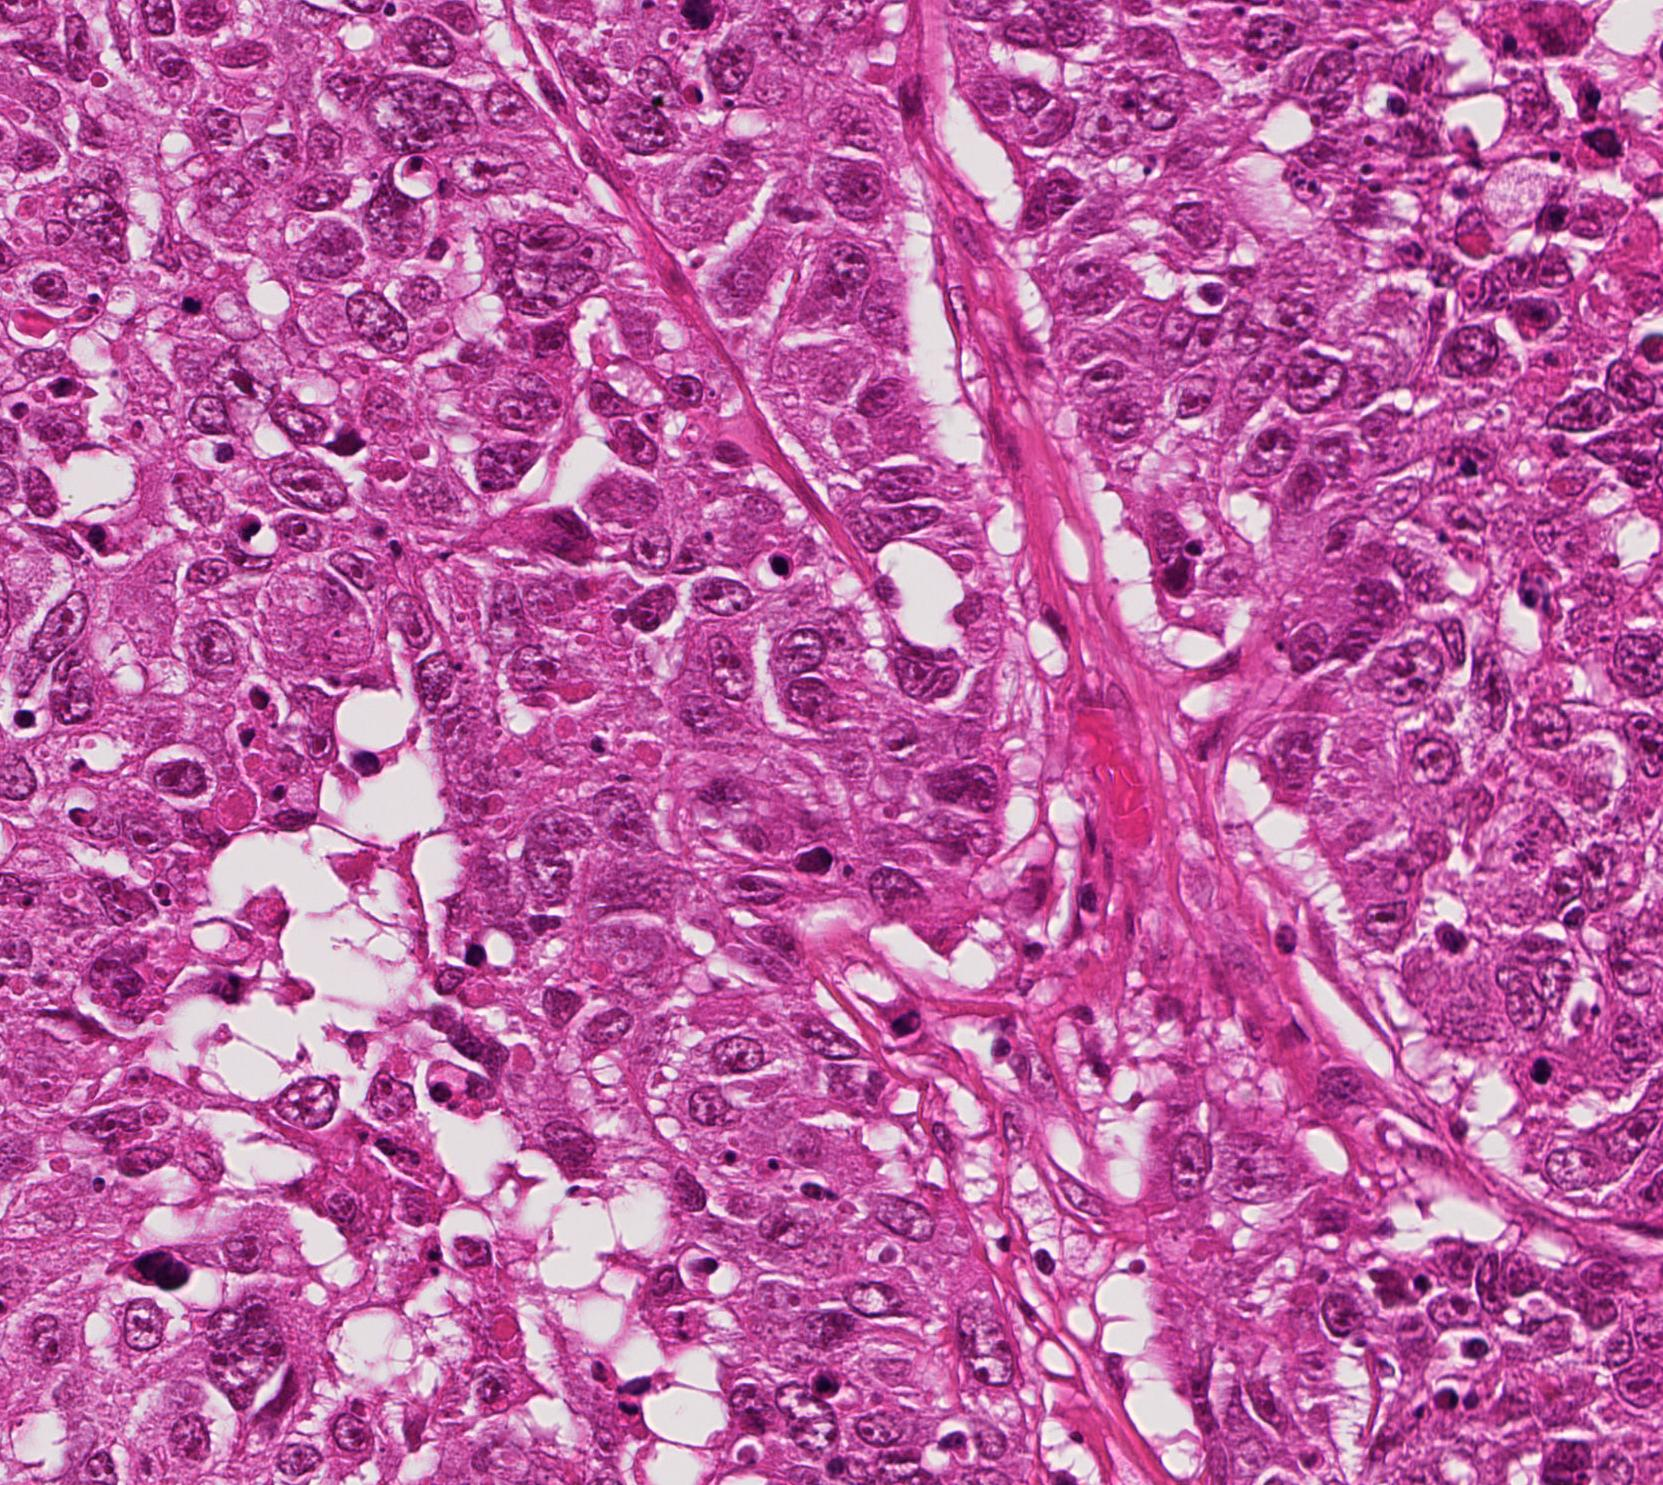mitosis: (668, 0, 728, 39)
